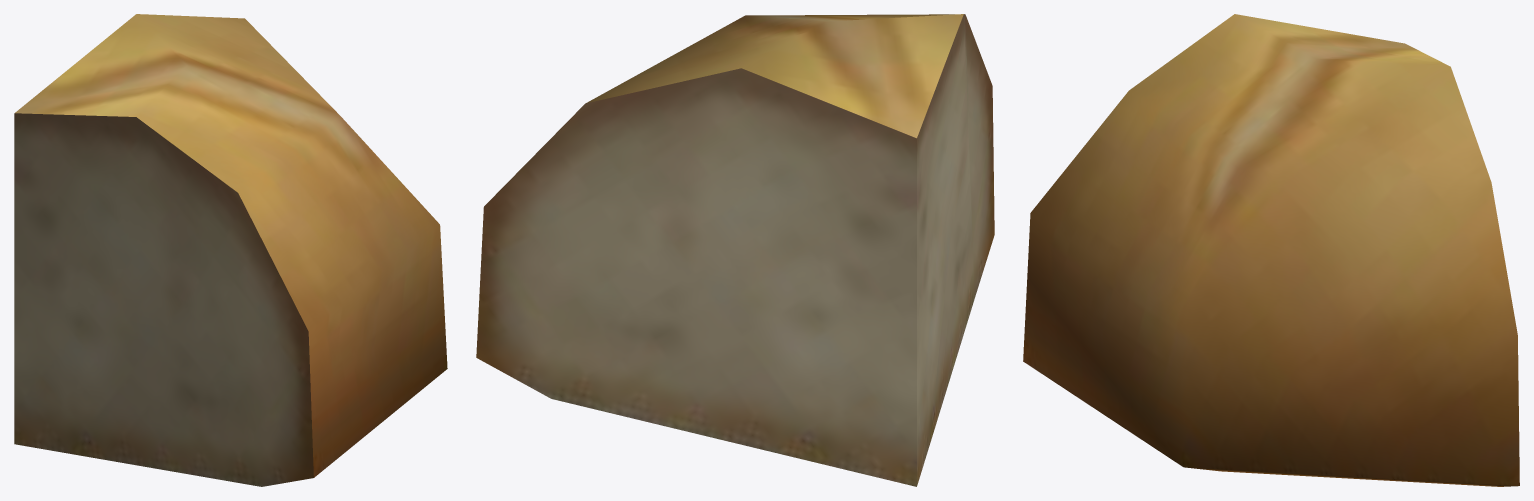
Rendered from SM_loaf_02.gltf.
3 views of the same model, side by side, from view 1: azimuth 30°, elevation 25°; view 2: azimuth 150°, elevation 25°; view 3: azimuth 270°, elevation 25° (orthographic). The views are drawn at different scales.
Parts seen in each view (by area): view 1: SM_loaf_02; view 2: SM_loaf_02; view 3: SM_loaf_02.
Part boxes in pixels (x1=…): SM_loaf_02: x1=14, y1=14, x2=447, y2=486; SM_loaf_02: x1=476, y1=14, x2=994, y2=486; SM_loaf_02: x1=1023, y1=14, x2=1519, y2=486.
Bounding box in the file's own units: 0.2102 × 0.21 × 0.2439.
1 material, 1 textured.
